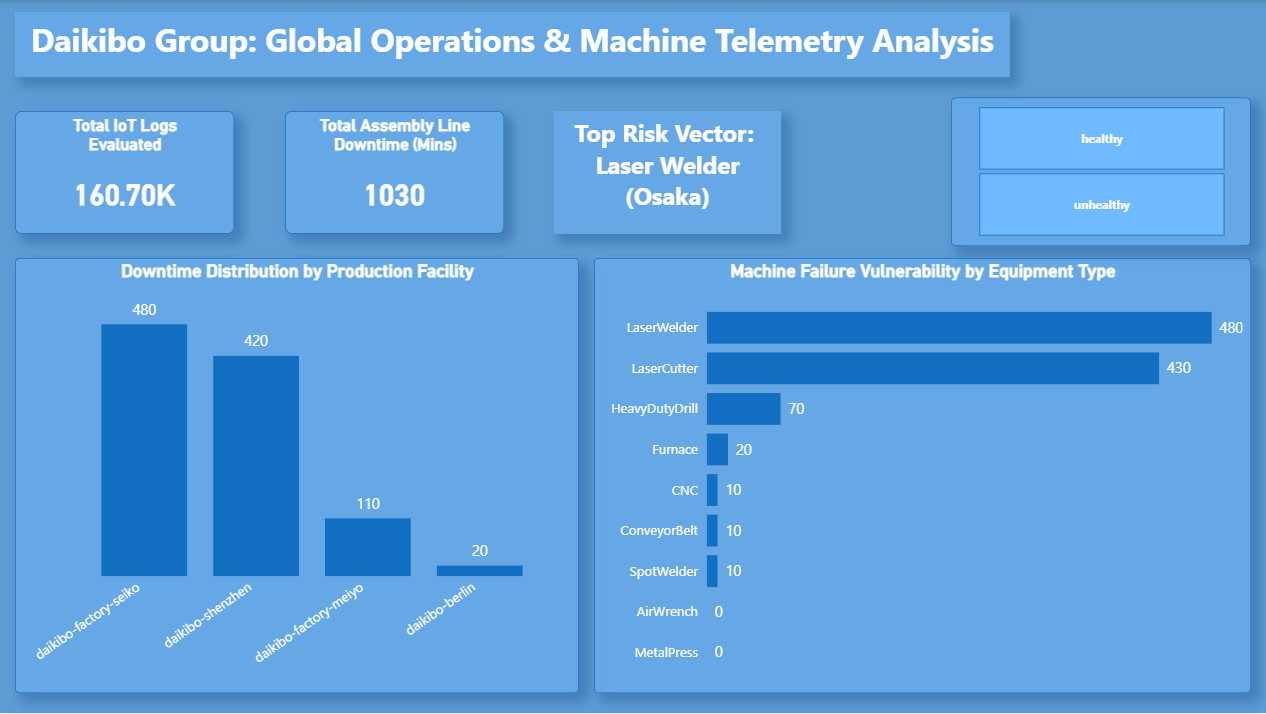

Layout of this report page (visuals, bound fields, positions):
{"tool":"powerbi","page":{"name":"Page 1","canvas":[1280,720],"ordinal":0},"visuals":[{"type":"clusteredColumnChart","title":"Downtime Distribution by Production Facility","fields":{"Category":["daikibo-telemetry-data.factory"],"Y":["Sum(daikibo-telemetry-data.Unhealthy)"]},"box":[15.1,260.4,569.3,439.1],"z":0},{"type":"clusteredBarChart","title":"Machine Failure Vulnerability by Equipment Type","fields":{"Category":["daikibo-telemetry-data.deviceType"],"Y":["Sum(daikibo-telemetry-data.Unhealthy)"]},"box":[599.6,260.4,663.2,439.1],"z":1000},{"type":"textbox","box":[15.1,12.1,1003.9,65.1],"z":2000},{"type":"card","title":"Total IoT Logs Evaluated","fields":{"Values":["CountNonNull(daikibo-telemetry-data.deviceID)"]},"box":[15.1,112.1,221.1,124.2],"z":3000},{"type":"card","title":"Total Assembly Line Downtime (Mins)","fields":{"Values":["Sum(daikibo-telemetry-data.Unhealthy)"]},"box":[287.7,112.1,221.1,124.2],"z":4000},{"type":"textbox","box":[558.7,112.1,230.2,124.2],"z":5000},{"type":"slicer","fields":{"Values":["daikibo-telemetry-data.status"]},"box":[960,98.4,302.8,149.9],"z":6000}]}

Visuals, with their boxes in screenshot pixels (x1, y1, x2, y2), scaled from the page's 1280x720 canvas onto the 1266x714 screenshot:
"Downtime Distribution by Production Facility" clusteredColumnChart: (left=15, top=258, right=578, bottom=694)
"Machine Failure Vulnerability by Equipment Type" clusteredBarChart: (left=593, top=258, right=1249, bottom=694)
textbox: (left=15, top=12, right=1008, bottom=77)
"Total IoT Logs Evaluated" card: (left=15, top=111, right=234, bottom=234)
"Total Assembly Line Downtime (Mins)" card: (left=285, top=111, right=503, bottom=234)
textbox: (left=553, top=111, right=780, bottom=234)
slicer - daikibo-telemetry-data.status: (left=950, top=98, right=1249, bottom=246)
